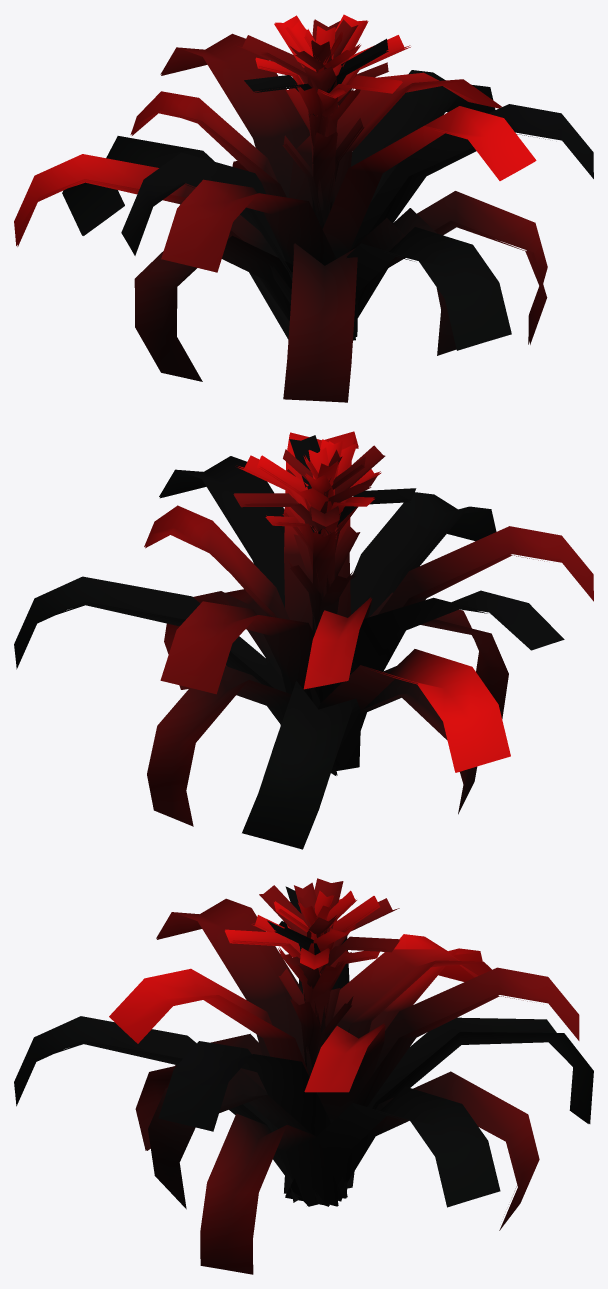
Rendered from TropicalShrub02_AFS_high.FBX.
The picture shows the model from 3 angles, top to bottom: view 1: azimuth 30°, elevation 25°; view 2: azimuth 150°, elevation 25°; view 3: azimuth 270°, elevation 25°; orthographic projection. The views are drawn at different scales.
Parts seen in each view (by area): view 1: TropicalShrub02_AFS_high; view 2: TropicalShrub02_AFS_high; view 3: TropicalShrub02_AFS_high.
Boxes of the visible parts, left/top/right/bottom form: TropicalShrub02_AFS_high: left=14, top=14, right=593, bottom=402; TropicalShrub02_AFS_high: left=14, top=431, right=593, bottom=849; TropicalShrub02_AFS_high: left=14, top=878, right=593, bottom=1274.
Size of the model in its own units: 0.6917 by 0.4231 by 0.7275.
